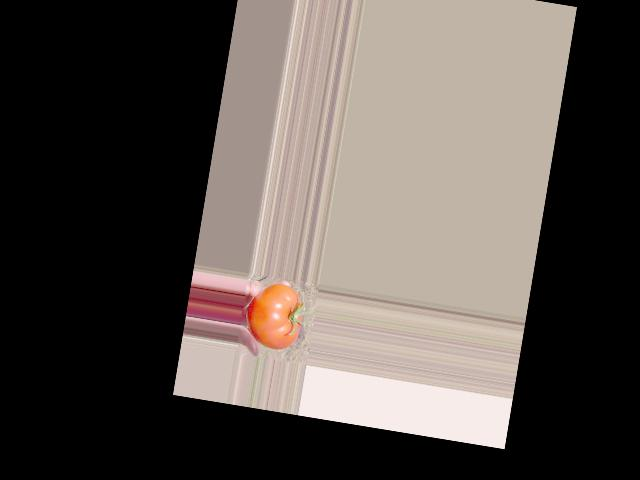tomato: (242, 279, 307, 352)
